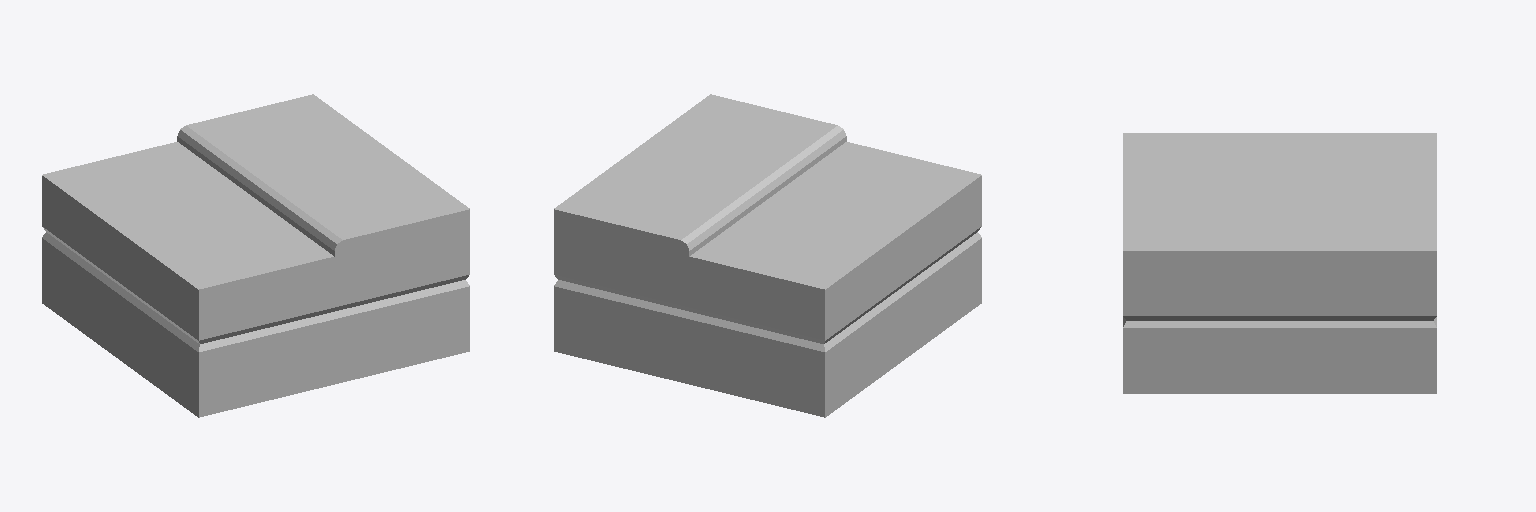
The model's file is square_sand_waterStraight.obj.
3 renders of one model, left to right at view 1: azimuth 30°, elevation 25°; view 2: azimuth 150°, elevation 25°; view 3: azimuth 270°, elevation 25°, orthographic.
Parts seen in each view (by area): view 1: square_sand_waterStraight_Cube.473; view 2: square_sand_waterStraight_Cube.473; view 3: square_sand_waterStraight_Cube.473.
Part boxes in pixels (bbox=[...]): square_sand_waterStraight_Cube.473: bbox=[42, 94, 469, 417]; square_sand_waterStraight_Cube.473: bbox=[554, 94, 981, 417]; square_sand_waterStraight_Cube.473: bbox=[1123, 133, 1436, 393].
Size of the model in its own units: 2 by 1 by 2.